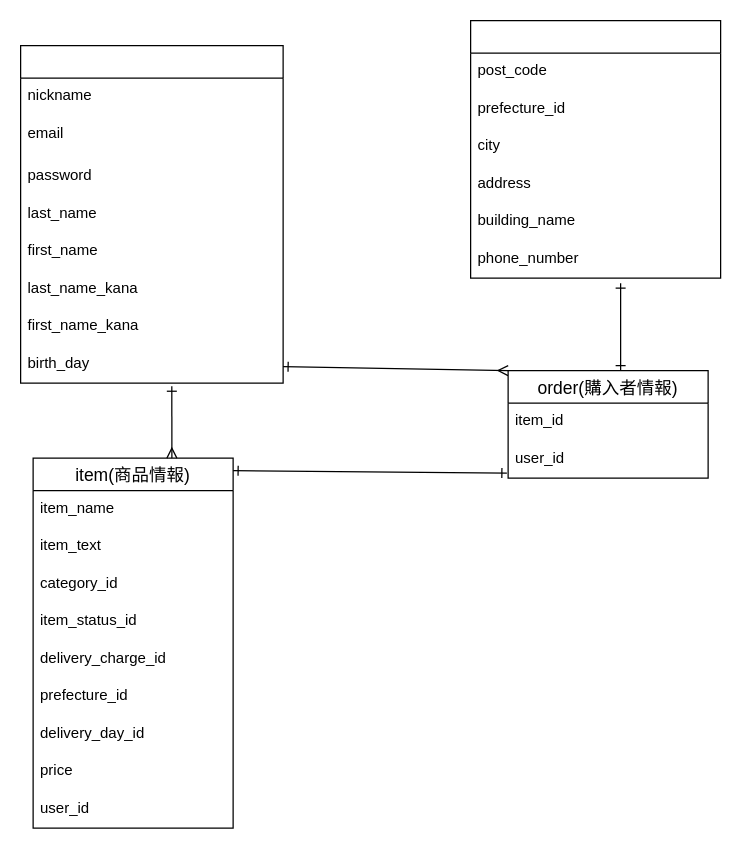
Image size: 741x849. Some labels were removed from this diagram. The box of each missing label's shape, as (x1, y1, x2, y2) in pixels:
order_address(発送先情報): (469, 19, 721, 278)
user: (19, 44, 283, 383)
